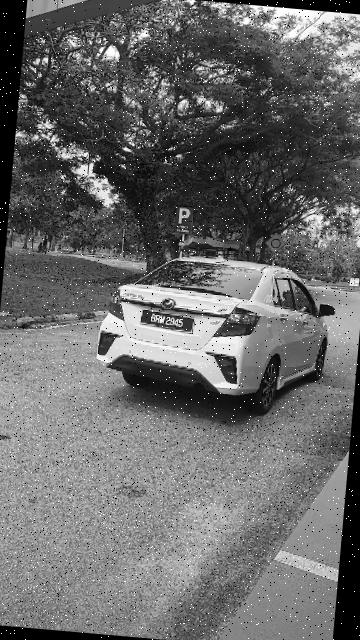car: (91, 245, 343, 421)
